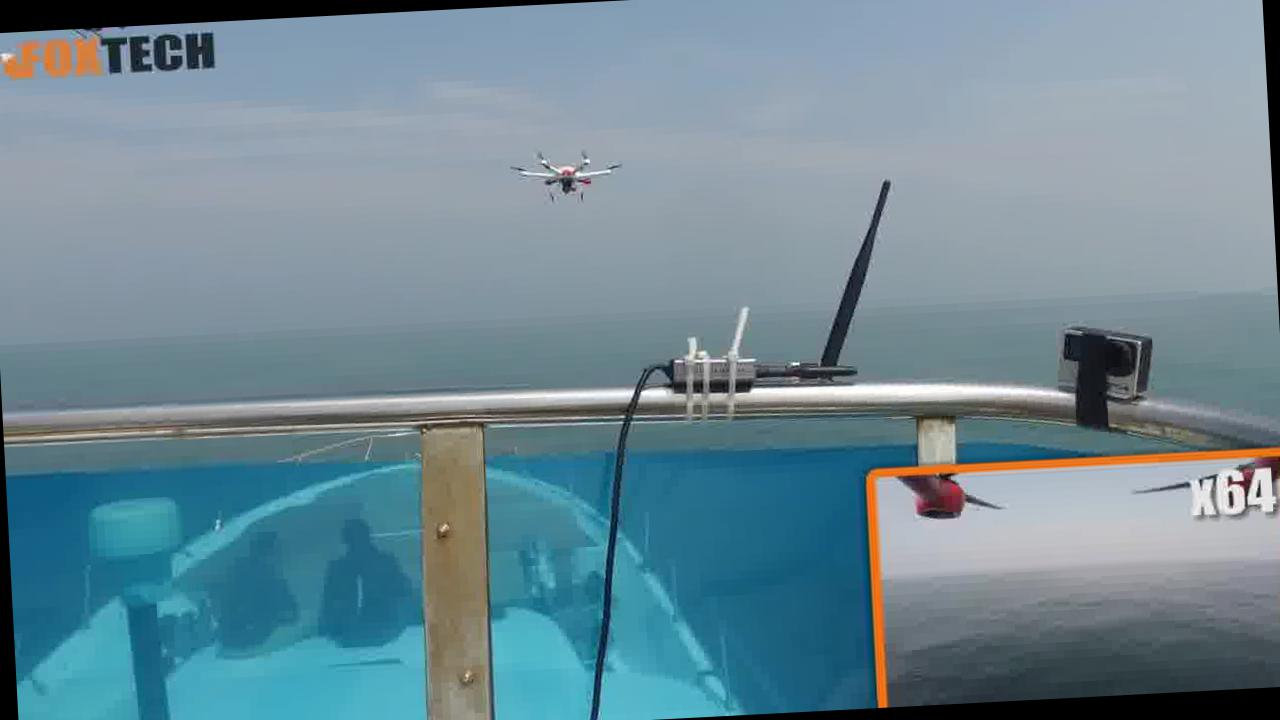drone: (488, 134, 640, 214)
